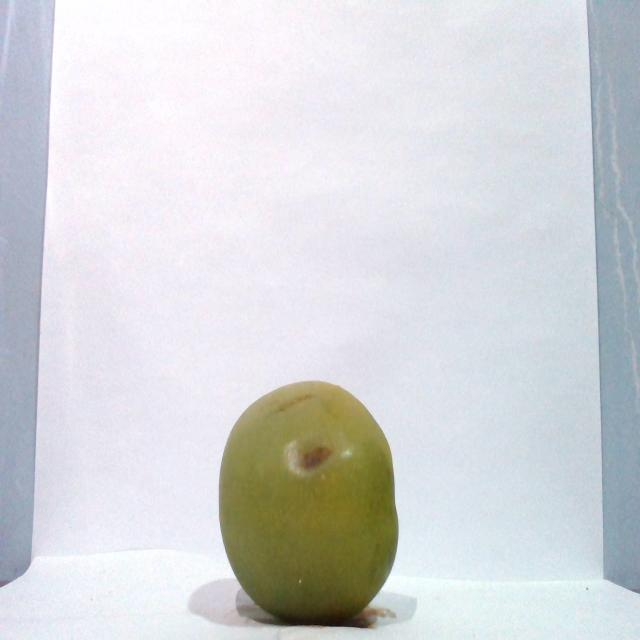Red: (216, 378, 399, 622)
